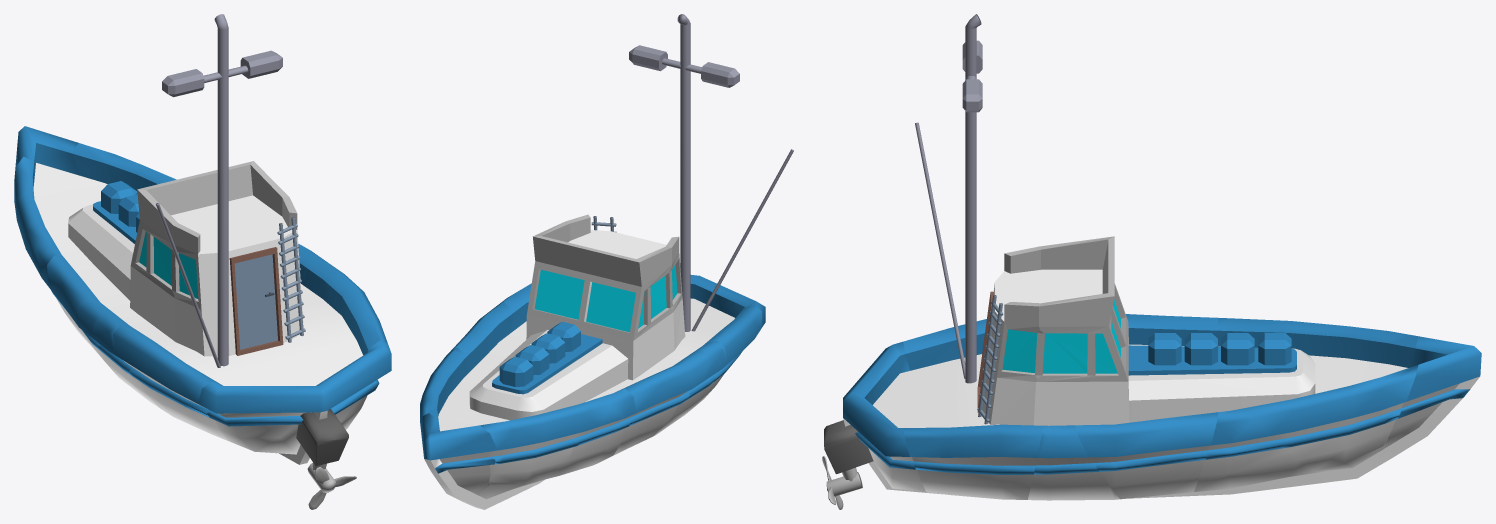
The model's file is FragmentedBoat.fbx.
3 views of the same model, side by side, from view 1: azimuth 30°, elevation 25°; view 2: azimuth 150°, elevation 25°; view 3: azimuth 270°, elevation 25° (orthographic). The views are drawn at different scales.
Parts seen in each view (by area): view 1: pCube1, pCylinder1.006, pCylinder1, pCylinder1.001, pCube11, pCylinder1.004, pCube2, pCylinder1.005, pCylinder1.002, pCube10, pCylinder17, pCylinder1.003 (+3 smaller); view 2: pCube1, pCylinder1.001, pCylinder1.004, pCube2, pCube11, pCylinder1.002, pCylinder1.003, pCylinder1.006, pCylinder1.005, pCylinder1, pCube6, pCube4 (+2 smaller); view 3: pCube1, pCylinder1.001, pCylinder1.006, pCylinder1.004, pCube2, pCylinder1.003, pCylinder1, pCylinder1.002, pCube11, pCylinder1.005, pCube10, pCylinder17 (+5 smaller).
Part boxes in pixels (x1,y1,x2,y2): pCube1: [130, 161, 303, 356]; pCylinder1.006: [113, 272, 387, 440]; pCylinder1: [198, 340, 391, 464]; pCylinder1.001: [14, 143, 176, 259]; pCube11: [156, 14, 282, 367]; pCylinder1.004: [47, 244, 327, 368]; pCube2: [68, 201, 137, 300]; pCylinder1.005: [91, 260, 346, 407]; pCylinder1.002: [15, 126, 79, 186]; pCube10: [296, 409, 348, 465]; pCylinder17: [277, 217, 305, 342]; pCylinder1.003: [32, 241, 102, 343]; pCube1: [526, 214, 685, 380]; pCylinder1.001: [420, 357, 609, 509]; pCylinder1.004: [451, 302, 708, 454]; pCube2: [469, 329, 628, 420]; pCube11: [629, 14, 793, 331]; pCylinder1.002: [421, 413, 497, 507]; pCylinder1.003: [441, 348, 636, 506]; pCylinder1.006: [516, 283, 761, 406]; pCylinder1.005: [496, 292, 726, 436]; pCylinder1: [690, 275, 765, 328]; pCube6: [499, 356, 533, 386]; pCube4: [531, 333, 565, 363]; pCube1: [977, 236, 1129, 425]; pCylinder1.001: [1249, 319, 1418, 480]; pCylinder1.006: [903, 319, 1042, 499]; pCylinder1.004: [1075, 314, 1218, 499]; pCube2: [1128, 344, 1315, 422]; pCylinder1.003: [1184, 318, 1339, 496]; pCylinder1: [843, 341, 933, 493]; pCylinder1.002: [1370, 336, 1481, 470]; pCube11: [915, 14, 982, 383]; pCylinder1.005: [1028, 425, 1137, 500]; pCube10: [824, 420, 873, 474]; pCylinder17: [977, 295, 1003, 424].
Size of the model in its own units: 154 by 268 by 333.
